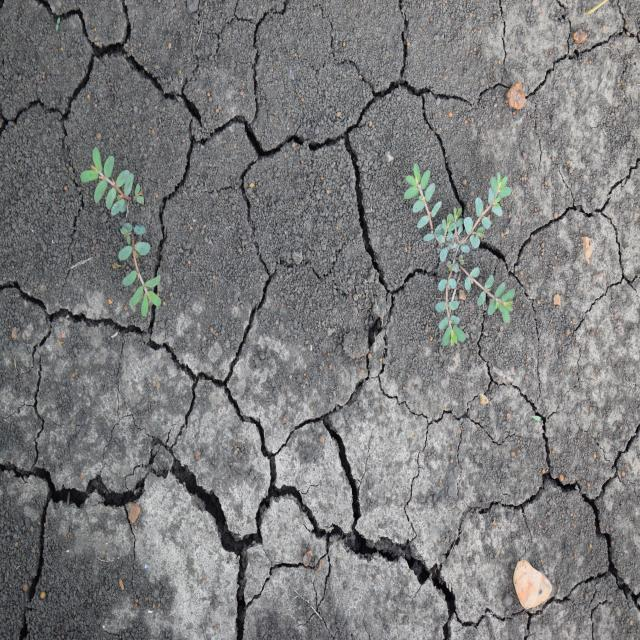SpottedSpurge: (402, 163, 518, 349), (80, 147, 162, 317)
